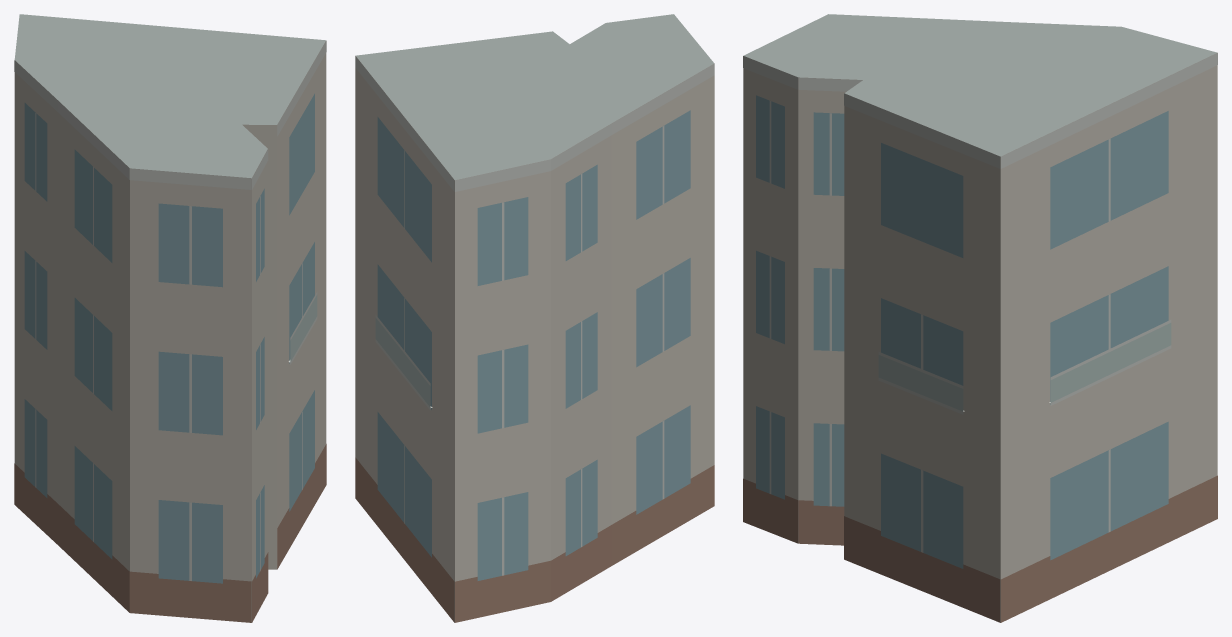
The model's file is survey-upis-32688621.glb.
3 renders of one model, left to right at view 1: azimuth 30°, elevation 25°; view 2: azimuth 150°, elevation 25°; view 3: azimuth 270°, elevation 25°, orthographic. The views are drawn at different scales.
Parts seen in each view (by area): view 1: survey-upis-32688621.tmp; view 2: survey-upis-32688621.tmp; view 3: survey-upis-32688621.tmp.
Part boxes in pixels (box(x1,y1,x2,y2)): survey-upis-32688621.tmp: box(14, 14, 326, 622); survey-upis-32688621.tmp: box(355, 14, 714, 622); survey-upis-32688621.tmp: box(743, 14, 1217, 622).
Bounding box in the file's own units: 6.01 × 9.15 × 8.45.
